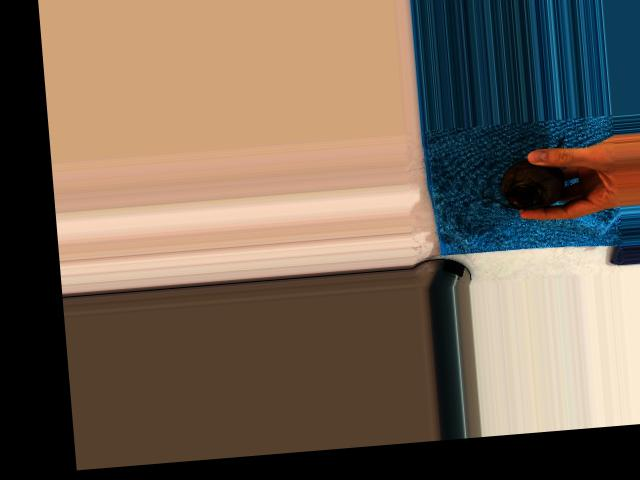beet: (477, 135, 570, 212)
